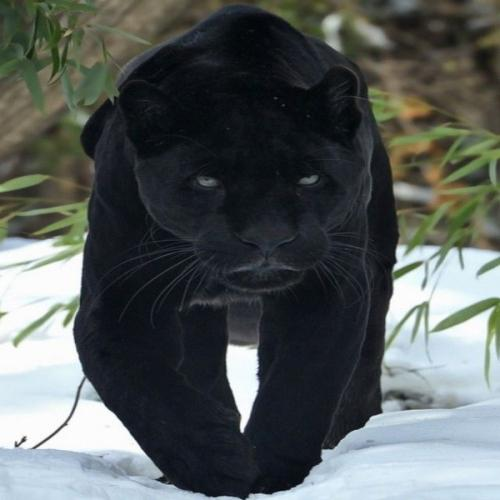panther-endangered: (71, 0, 409, 500)
